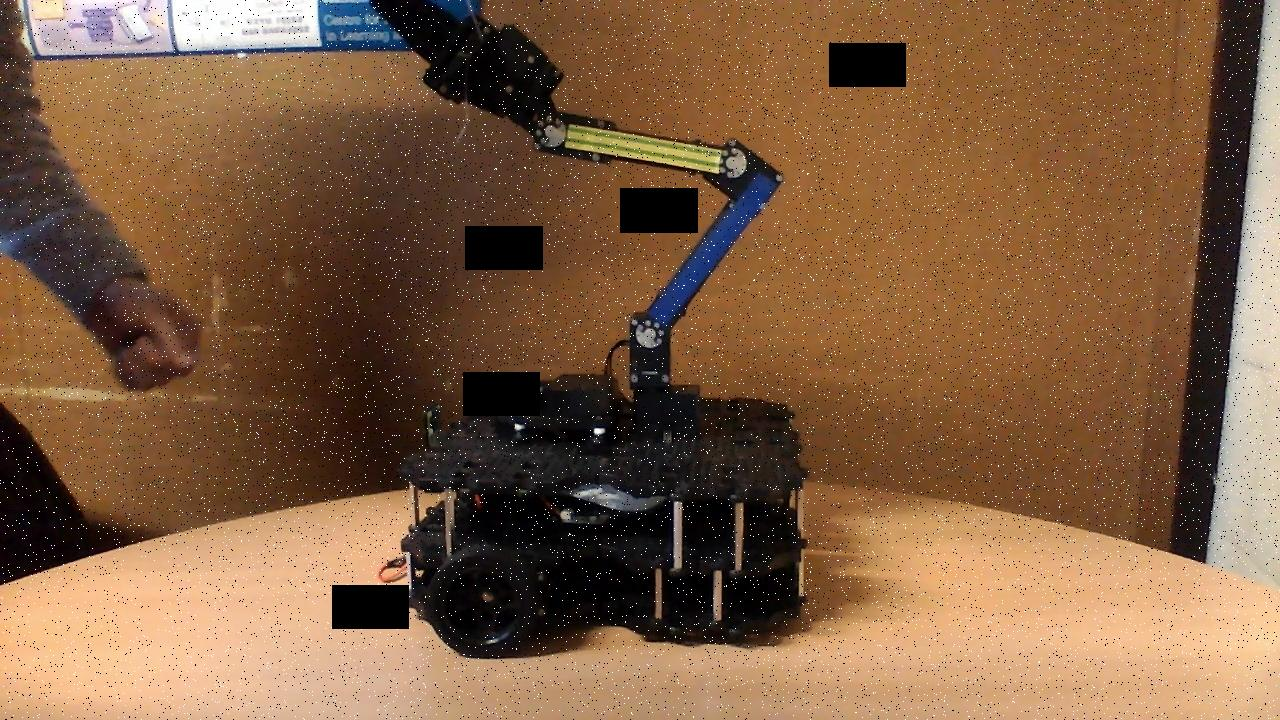Arm: (628, 166, 783, 350)
Hand: (365, 0, 570, 152)
Wrist: (533, 113, 749, 182)
base: (385, 368, 815, 660)
